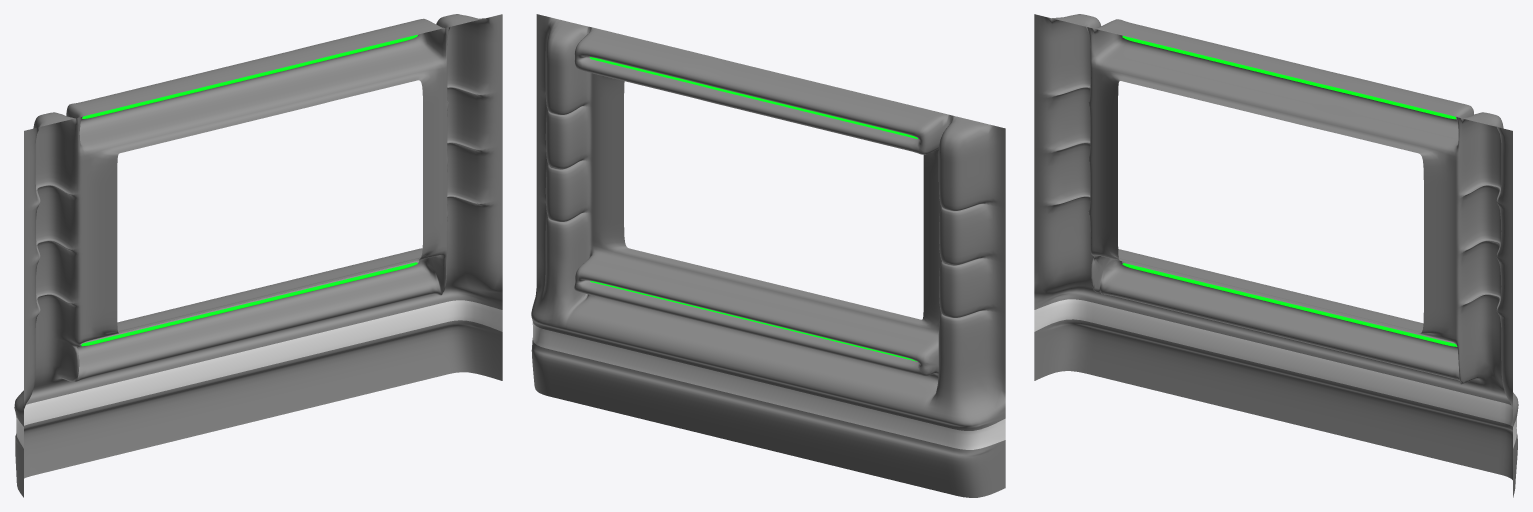
The model's file is WallTile1.fbx.
3 renders of one model, left to right at view 1: azimuth 30°, elevation 25°; view 2: azimuth 150°, elevation 25°; view 3: azimuth 330°, elevation 25°, orthographic. The views are drawn at different scales.
Parts seen in each view (by area): view 1: Plane001; view 2: Plane001; view 3: Plane001.
Boxes of the visible parts, left/top/right/bottom form: Plane001: left=14, top=14, right=502, bottom=497; Plane001: left=531, top=14, right=1005, bottom=497; Plane001: left=1034, top=14, right=1518, bottom=497.
Size of the model in its own units: 938 by 687 by 103.
